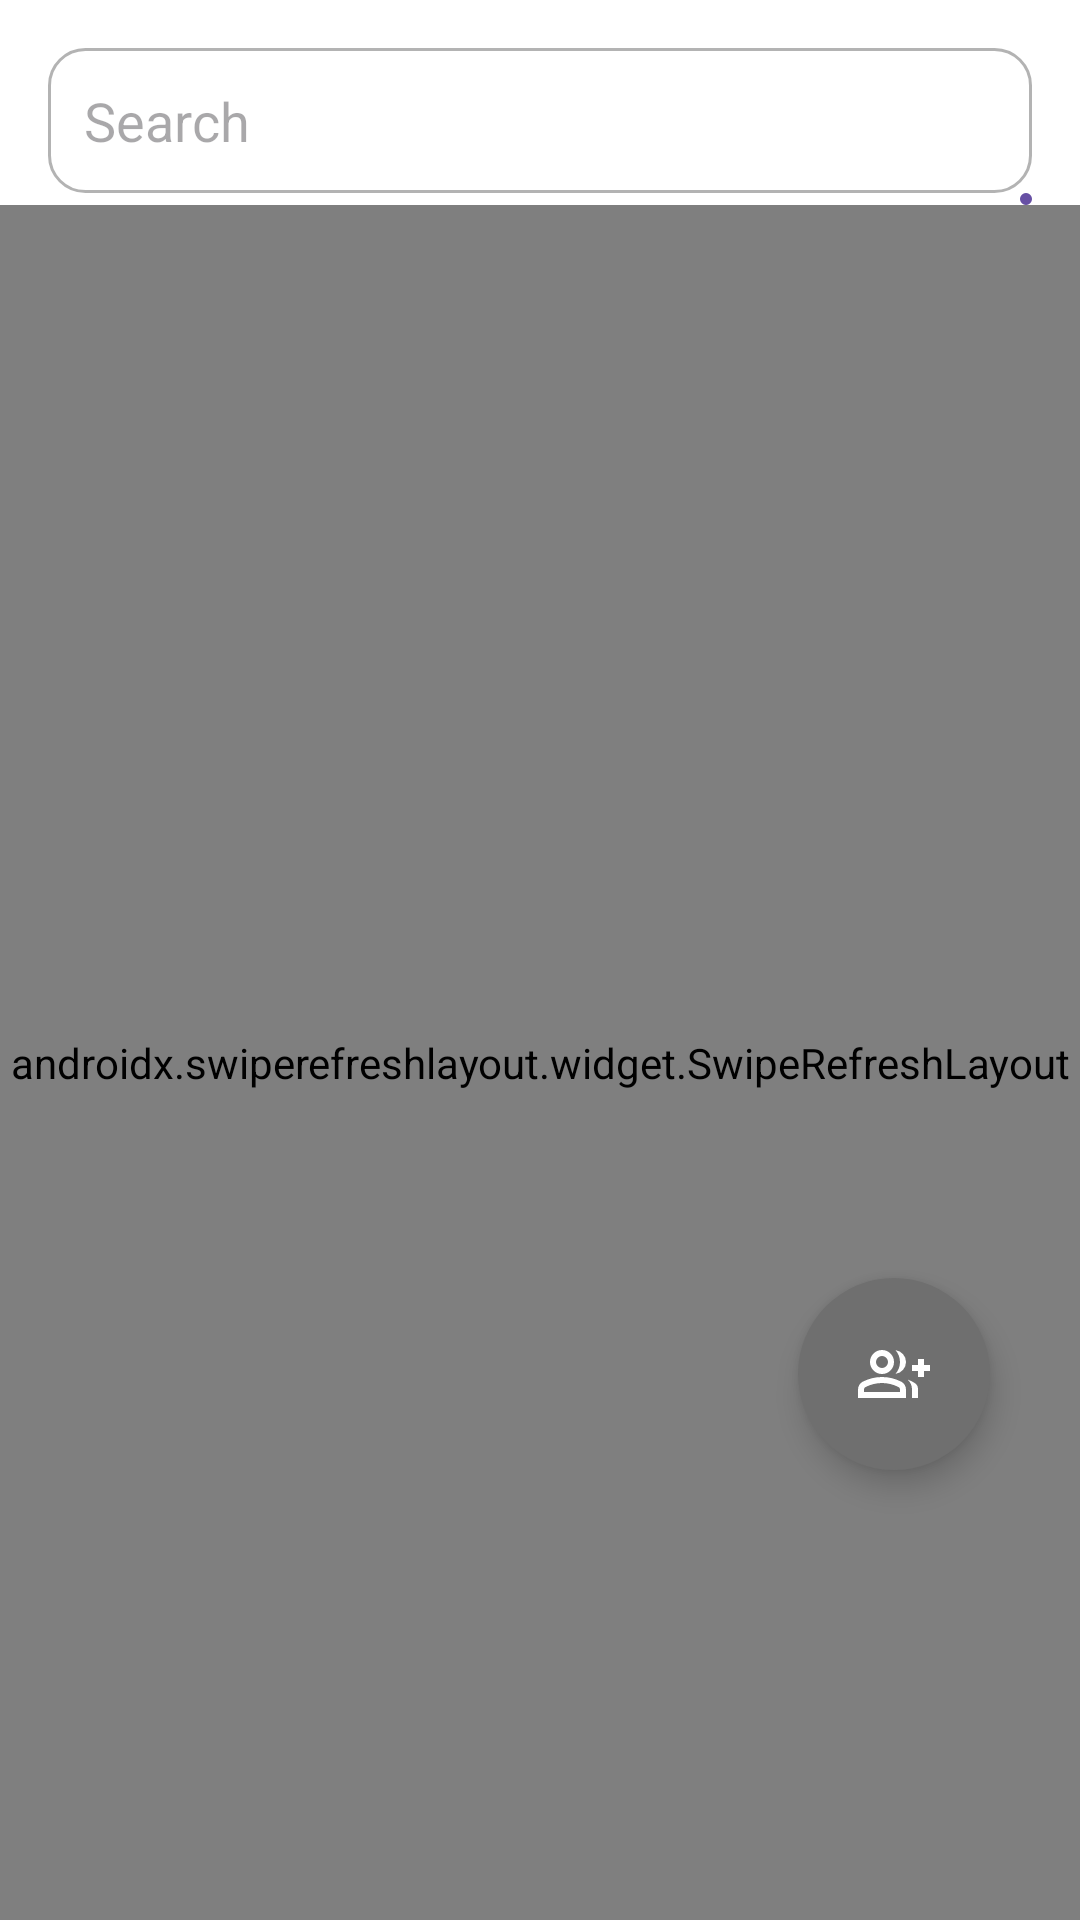

Locate icon controls on the screen. Image size 1080 x 1920, boxes as (x1, y1, x2, y2).
Add member: (798, 1278, 990, 1470)
